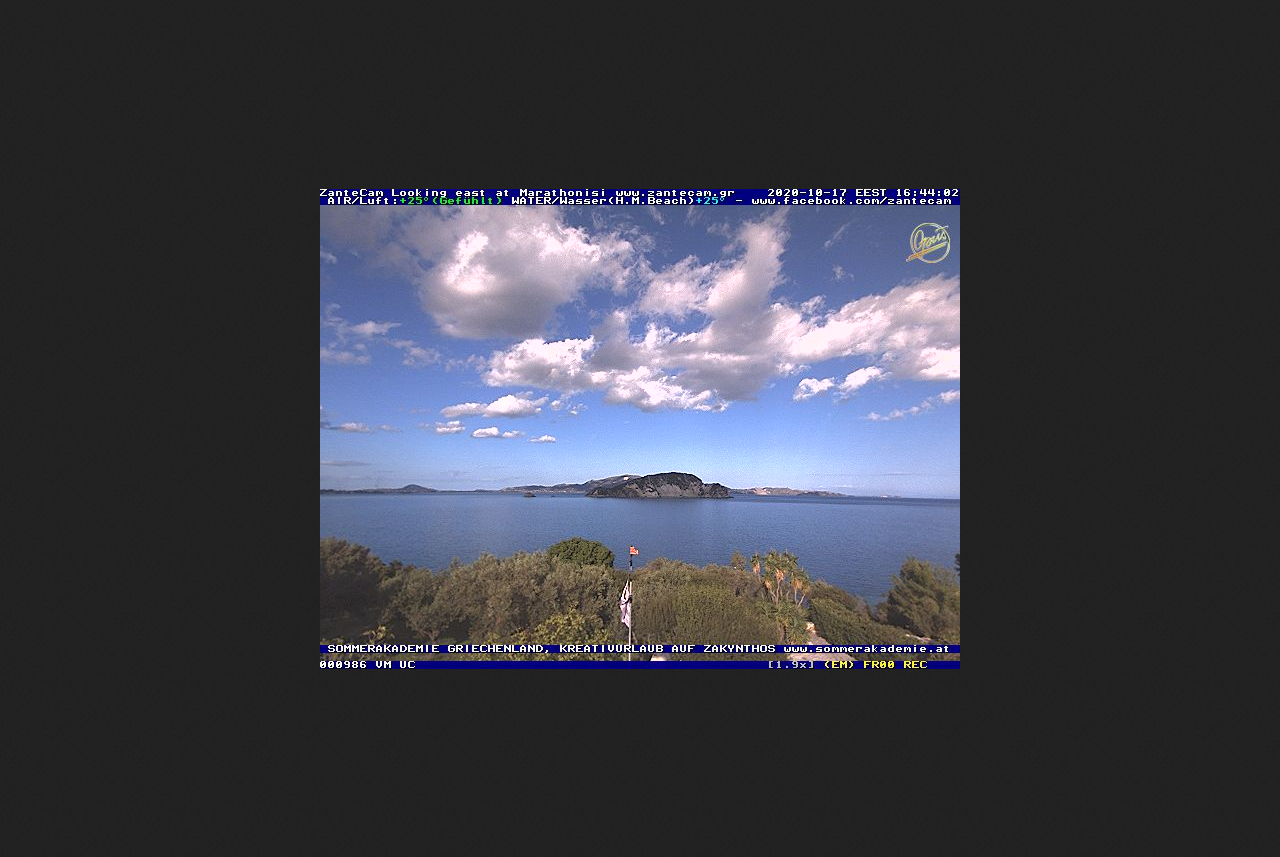no: (612, 573, 636, 634)
